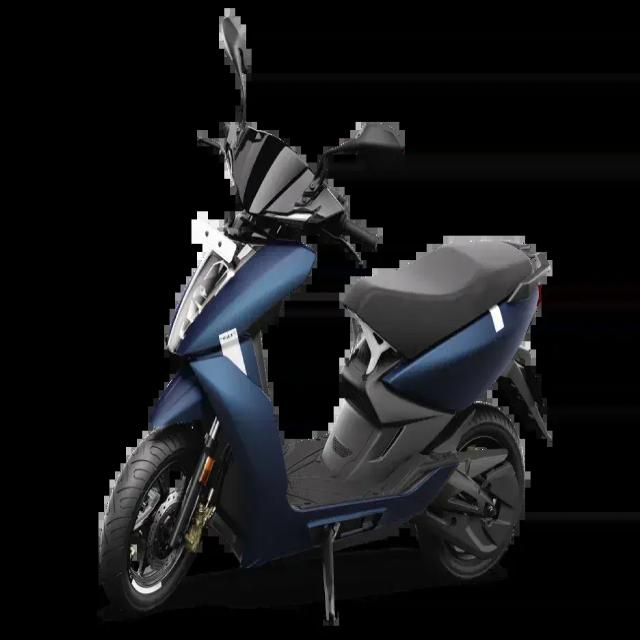objects: (89, 5, 554, 606)
